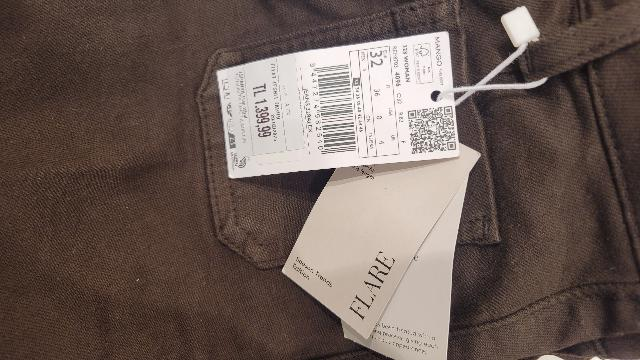Kagit: (284, 113, 480, 354), (208, 27, 480, 169)
